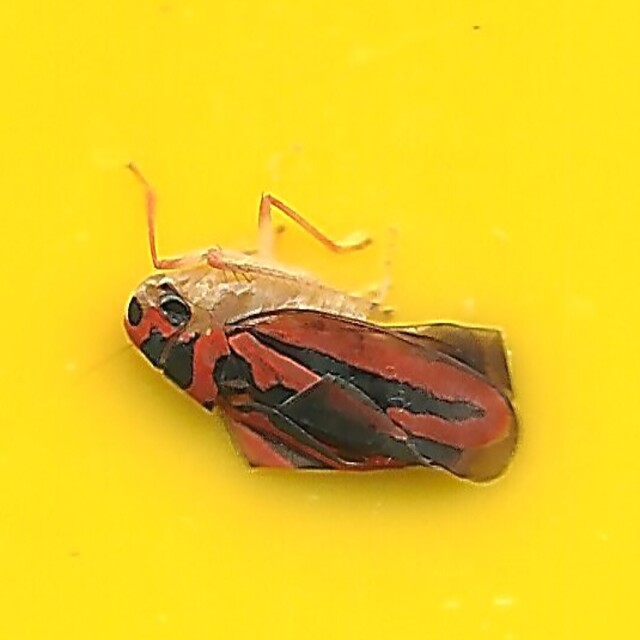Hemiptera: (120, 153, 520, 487)
